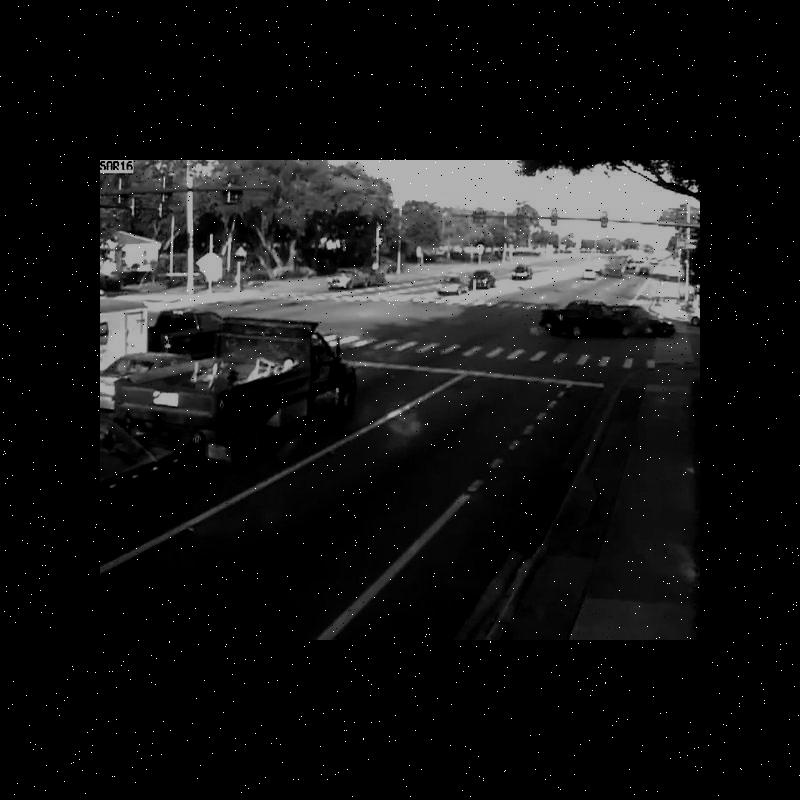car: (100, 353, 188, 404), (146, 304, 222, 359), (542, 298, 632, 334), (609, 301, 676, 336), (325, 266, 384, 290), (436, 274, 470, 297), (469, 268, 500, 290), (510, 264, 536, 284), (581, 268, 594, 282)
truck: (120, 320, 358, 467), (605, 251, 626, 282)
